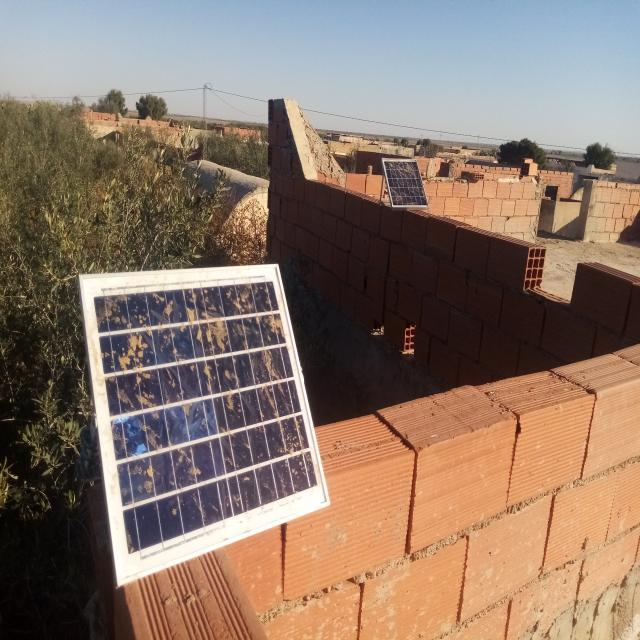faulty: (77, 266, 332, 586), (382, 159, 429, 207)
